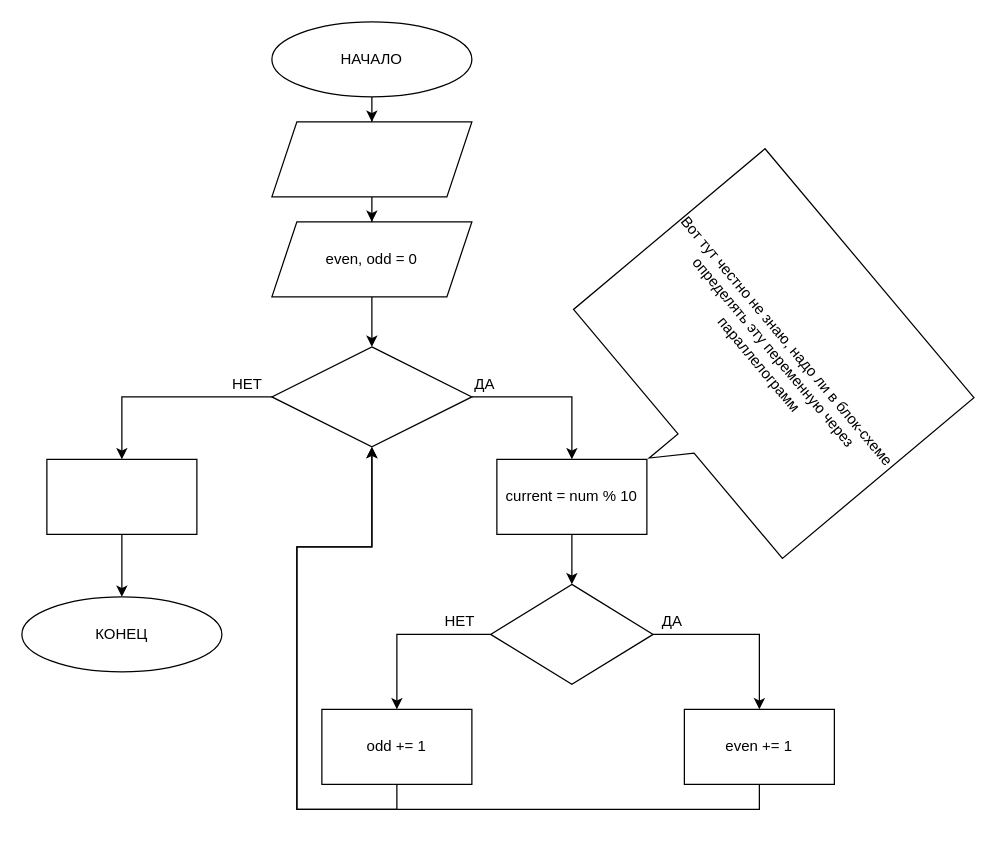
Some shapes in this 996 by 841 pixel diagram are drawn without their labels. Here are the shapes that lost their labels. From the top down, the centre of each, then its label:
the point at 371,159: Ввод num
the point at 371,396: num >= 1?
the point at 121,496: num = num // 10
the point at 571,633: current % 2 == 0?
